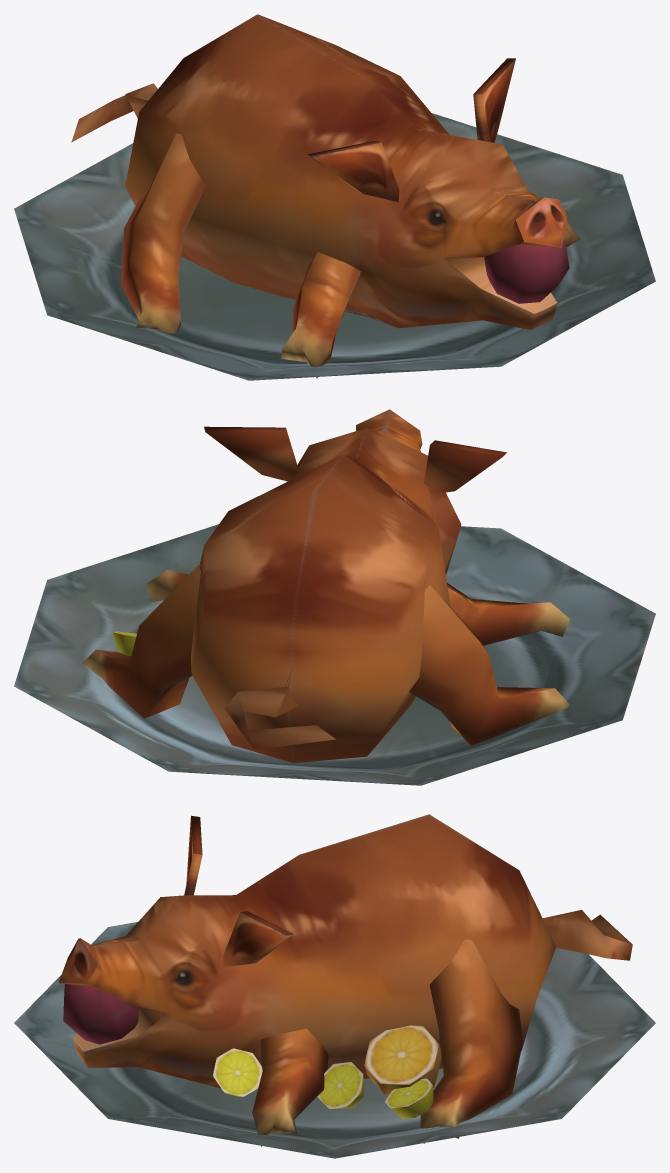
File: LechonPork_01.glb
3 renders of one model, top to bottom at view 1: azimuth 30°, elevation 25°; view 2: azimuth 150°, elevation 25°; view 3: azimuth 270°, elevation 25°, orthographic. The views are drawn at different scales.
Parts seen in each view (by area): view 1: LechonPork_01; view 2: LechonPork_01; view 3: LechonPork_01.
Part boxes in pixels (x1=…): LechonPork_01: x1=14, y1=14, x2=655, y2=380; LechonPork_01: x1=14, y1=409, x2=655, y2=785; LechonPork_01: x1=14, y1=814, x2=655, y2=1158.
Size of the model in its own units: 2.39 by 1.05 by 2.39.
1 material, 1 textured.
